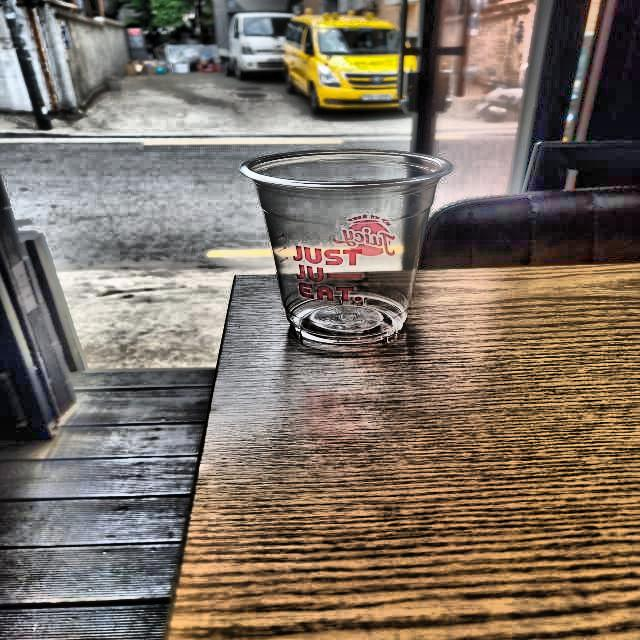plastic cup: (234, 142, 464, 353)
